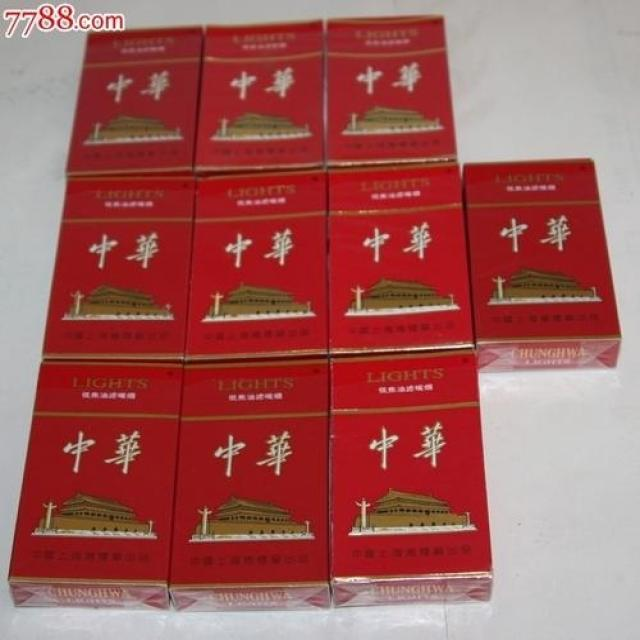box: (8, 362, 184, 612), (330, 349, 494, 608), (170, 359, 332, 612), (463, 158, 621, 373), (328, 161, 475, 355), (42, 176, 195, 360), (186, 169, 328, 359), (65, 25, 204, 175), (191, 19, 325, 172), (324, 15, 458, 166)
